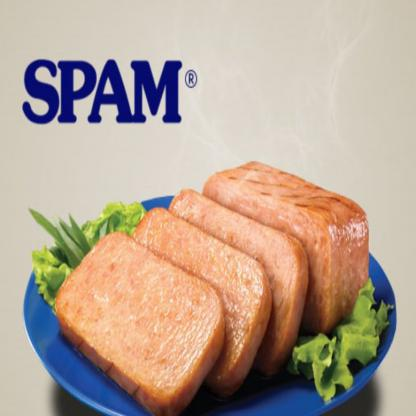spam: (139, 166, 364, 335)
